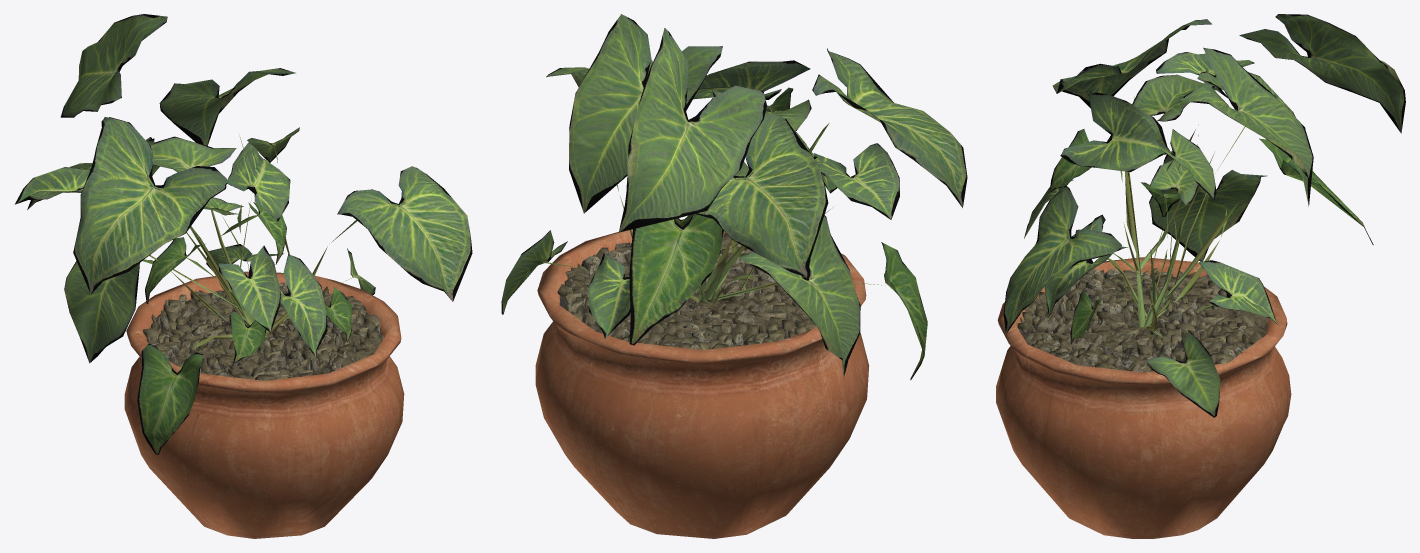
File: potted_plant_02.glb
The picture shows the model from 3 angles, left to right: view 1: azimuth 30°, elevation 25°; view 2: azimuth 150°, elevation 25°; view 3: azimuth 270°, elevation 25°; orthographic projection. The views are drawn at different scales.
Visible parts, largest first — view 1: potted_plant_02_leaves, potted_plant_02_pot; view 2: potted_plant_02_leaves, potted_plant_02_pot; view 3: potted_plant_02_pot, potted_plant_02_leaves.
Part boxes in pixels (x1=…): potted_plant_02_leaves: x1=15, y1=14, x2=472, y2=454; potted_plant_02_pot: x1=124, y1=271, x2=404, y2=538; potted_plant_02_leaves: x1=501, y1=14, x2=967, y2=380; potted_plant_02_pot: x1=535, y1=219, x2=869, y2=538; potted_plant_02_pot: x1=996, y1=257, x2=1291, y2=538; potted_plant_02_leaves: x1=1003, y1=14, x2=1405, y2=417.
Bounding box in the file's own units: 0.7009 × 0.8397 × 0.6554.
Materials: 2 (2 with a texture image).
